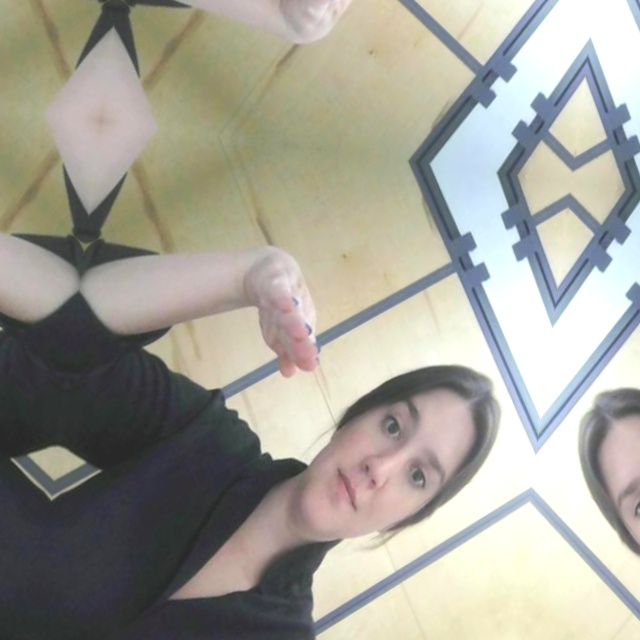Paper: (0, 0, 16, 33)
